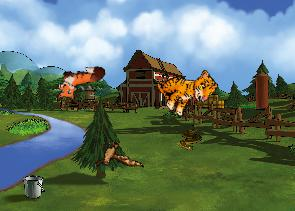eagle: (89, 133, 144, 180)
fox: (52, 64, 108, 105)
tiger: (151, 54, 221, 123)
